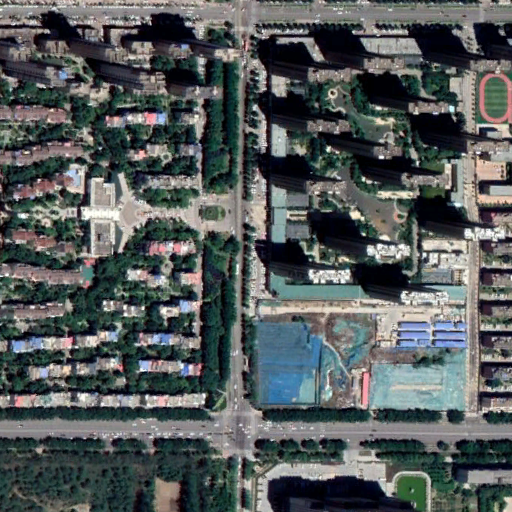cw: (255, 311, 467, 409)
